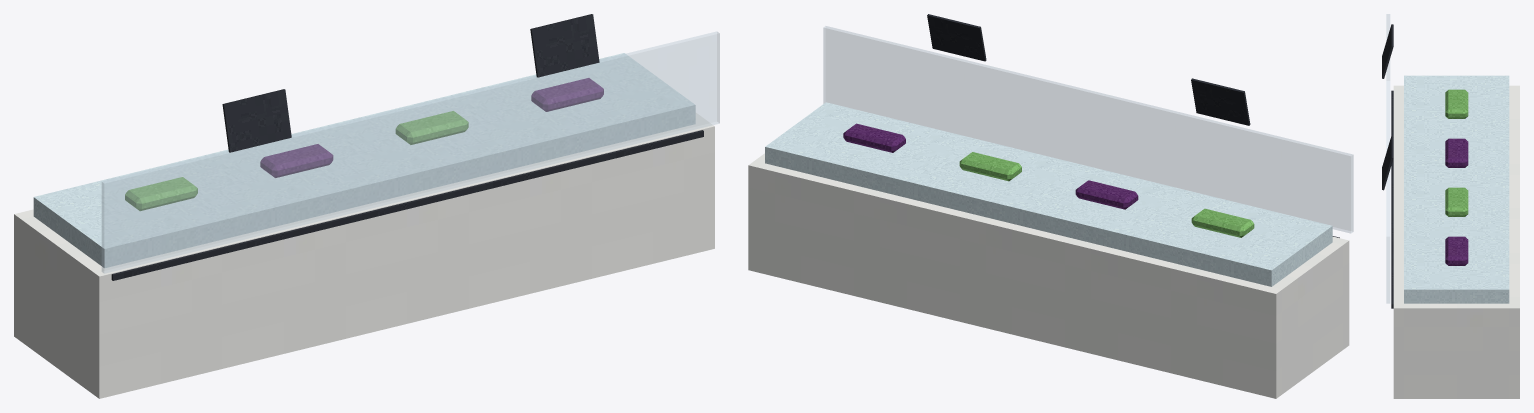
The picture shows the model from 3 angles, left to right: view 1: azimuth 30°, elevation 25°; view 2: azimuth 150°, elevation 25°; view 3: azimuth 270°, elevation 25°; orthographic projection. The views are drawn at different scales.
Visible parts, largest first — view 1: Decor_fish_counter; view 2: Decor_fish_counter; view 3: Decor_fish_counter.
Boxes of the visible parts, bbox=[...] form: Decor_fish_counter: bbox=[14, 14, 719, 398]; Decor_fish_counter: bbox=[748, 14, 1353, 398]; Decor_fish_counter: bbox=[1382, 14, 1519, 398].
Size of the model in its own units: 5 by 2.06 by 1.31.
6 materials, 6 textured.
